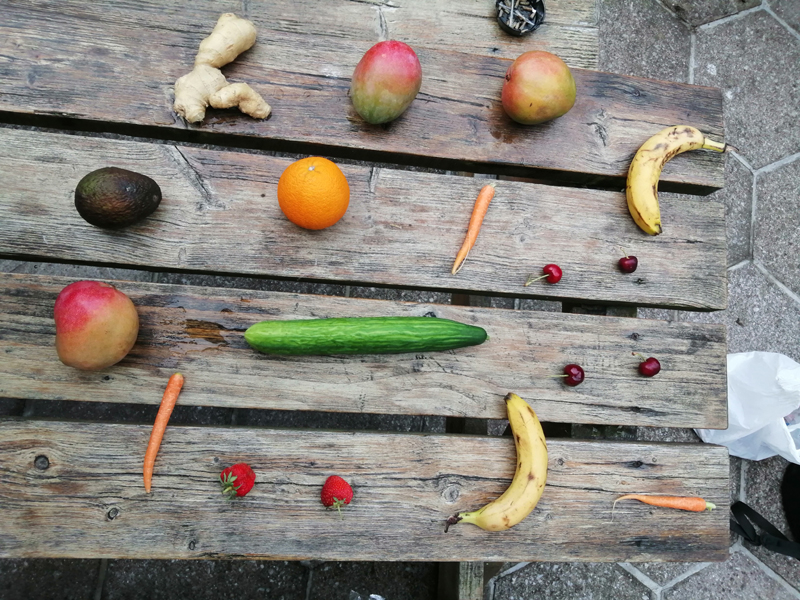avocado: (68, 164, 167, 235)
banana: (442, 391, 560, 544), (616, 114, 745, 241)
carrot: (137, 372, 187, 497), (600, 477, 717, 529), (447, 178, 496, 280)
cherry: (607, 231, 647, 282), (517, 264, 570, 292), (627, 354, 667, 385), (546, 358, 588, 385)
cucumber: (239, 314, 498, 363)
ginger: (162, 12, 287, 123)
mango: (50, 280, 142, 369), (495, 52, 582, 133), (347, 38, 423, 129)
orange: (269, 154, 357, 233)
strawberry: (212, 457, 260, 503), (314, 474, 359, 517)
